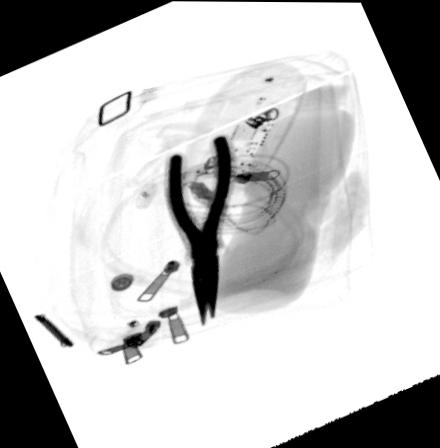Pliers: (163, 133, 238, 328)
